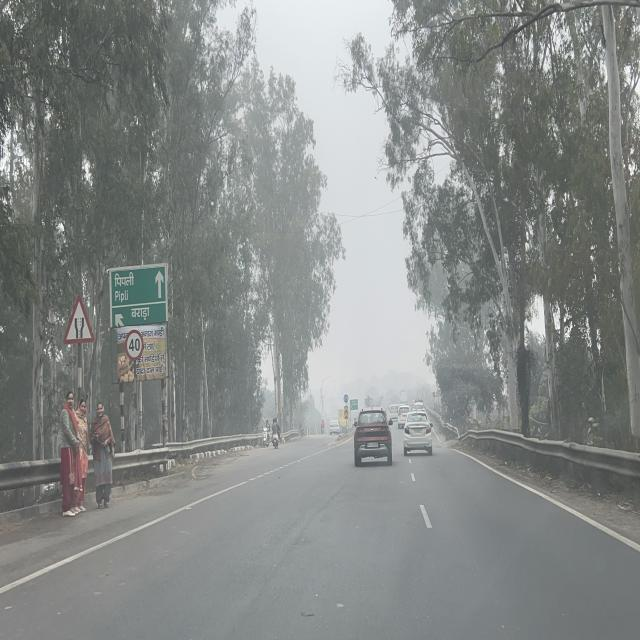GENERAL: (109, 263, 168, 328), (350, 399, 358, 409)
KEEP_EITHER_SIDE: (344, 394, 348, 403)
LEFT_TURN_AHEAD: (433, 392, 435, 397)
ROAD_WIDENS_AHEAD: (63, 294, 95, 344)
SPEED_LIMIT_40: (125, 328, 144, 362)
U_TURN_PROHIBITED: (369, 399, 373, 406)
